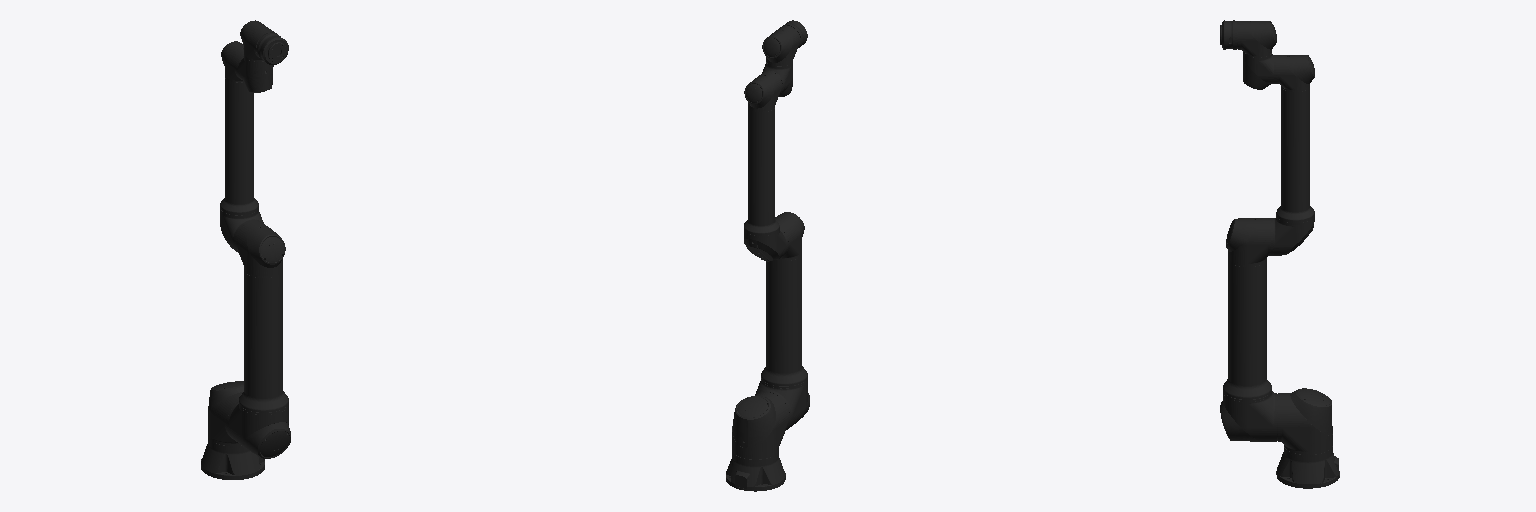
robot.urdf — rb10:
<?xml version="1.0" ?>
<!-- =================================================================================== -->
<!-- |    This document was autogenerated by xacro from rb10_moveit.xacro              | -->
<!-- |    EDITING THIS FILE BY HAND IS NOT RECOMMENDED                                 | -->
<!-- =================================================================================== -->
<!-- Cobot Robot -->
<robot name="rb10">
  <material name="grey">
    <color rgba="0.2 0.2 0.2 1.0"/>
  </material>
  <!--======================= Links =========================-->
  <!-- Base Footprint -->
  <link name="base_footprint">
    <visual>
      <origin rpy="0 0 0" xyz="0 0 0"/>
      <geometry>
        <box size="0.001 0.001 0.001"/>
      </geometry>
      <material name="grey"/>
    </visual>
  </link>
  <!-- 0 -->
  <link name="Axis_0">
    <visual>
      <origin rpy="0 0 0" xyz="0 0 0"/>
      <geometry>
        <mesh filename="package://rb_description/meshes/visual/RB10/RB10-AXIS-0.stl" scale="0.001 0.001 0.001"/>
      </geometry>
      <material name="grey"/>
    </visual>
    <collision>
      <origin rpy="0 0 0" xyz="0 0 0"/>
      <geometry>
        <mesh filename="package://rb_description/meshes/collision/RB10/RB10-AXIS-0.stl" scale="0.001 0.001 0.001"/>
      </geometry>
    </collision>
  </link>
  <!-- Base -->
  <link name="Axis_1">
    <visual>
      <origin rpy="0 0 0" xyz="0 0 0"/>
      <geometry>
        <mesh filename="package://rb_description/meshes/visual/RB10/RB10-AXIS-1.stl" scale="0.001 0.001 0.001"/>
      </geometry>
      <material name="grey"/>
    </visual>
    <collision>
      <origin rpy="0 0 0" xyz="0 0 0"/>
      <geometry>
        <mesh filename="package://rb_description/meshes/collision/RB10/RB10-AXIS-1.stl" scale="0.001 0.001 0.001"/>
      </geometry>
    </collision>
  </link>
  <!-- Shoulder -->
  <link name="Axis_2">
    <visual>
      <origin rpy="0 0 0" xyz="0 0 -0.197"/>
      <geometry>
        <mesh filename="package://rb_description/meshes/visual/RB10/RB10-AXIS-2.stl" scale="0.001 0.001 0.001"/>
      </geometry>
      <material name="grey"/>
    </visual>
    <collision>
      <origin rpy="0 0 0" xyz="0 0 -0.197"/>
      <geometry>
        <mesh filename="package://rb_description/meshes/collision/RB10/RB10-AXIS-2.stl" scale="0.001 0.001 0.001"/>
      </geometry>
    </collision>
  </link>
  <!-- Elbow -->
  <link name="Axis_3">
    <visual>
      <origin rpy="0 0 0" xyz="0 0 -0.8097000000000001 "/>
      <geometry>
        <mesh filename="package://rb_description/meshes/visual/RB10/RB10-AXIS-3.stl" scale="0.001 0.001 0.001"/>
      </geometry>
      <material name="grey"/>
    </visual>
    <collision>
      <origin rpy="0 0 0" xyz="0 0 -0.8097000000000001"/>
      <geometry>
        <mesh filename="package://rb_description/meshes/collision/RB10/RB10-AXIS-3.stl" scale="0.001 0.001 0.001"/>
      </geometry>
    </collision>
  </link>
  <!-- Wrist1 -->
  <link name="Axis_4">
    <visual>
      <origin rpy="0 0 0" xyz="0 0 -1.3798500000000002"/>
      <geometry>
        <mesh filename="package://rb_description/meshes/visual/RB10/RB10-AXIS-4.stl" scale="0.001 0.001 0.001"/>
      </geometry>
      <material name="grey"/>
    </visual>
    <collision>
      <origin rpy="0 0 0" xyz="0 0 -1.3798500000000002"/>
      <geometry>
        <mesh filename="package://rb_description/meshes/collision/RB10/RB10-AXIS-4.stl" scale="0.001 0.001 0.001"/>
      </geometry>
    </collision>
  </link>
  <!-- Wrist2 -->
  <link name="Axis_5">
    <visual>
      <origin rpy="0 0 0" xyz="0 0.15625  -1.3798500000000002"/>
      <geometry>
        <mesh filename="package://rb_description/meshes/visual/RB10/RB10-AXIS-5.stl" scale="0.001 0.001 0.001"/>
      </geometry>
      <material name="grey"/>
    </visual>
    <collision>
      <origin rpy="0 0 0" xyz="0 0.15625  -1.3798500000000002"/>
      <geometry>
        <mesh filename="package://rb_description/meshes/collision/RB10/RB10-AXIS-5.stl" scale="0.001 0.001 0.001"/>
      </geometry>
    </collision>
  </link>
  <!-- Wrist3 -->
  <link name="Axis_6">
    <visual>
      <origin rpy="0 0 0" xyz="0 0.15625 -1.4970000000000003"/>
      <geometry>
        <mesh filename="package://rb_description/meshes/visual/RB10/RB10-AXIS-6.stl" scale="0.001 0.001 0.001"/>
      </geometry>
      <material name="grey"/>
    </visual>
    <collision>
      <origin rpy="0 0 0" xyz="0 0.15625 -1.4970000000000003"/>
      <geometry>
        <mesh filename="package://rb_description/meshes/collision/RB10/RB10-AXIS-6.stl" scale="0.001 0.001 0.001"/>
      </geometry>
    </collision>
  </link>
  <!-- TCP -->
  <link name="Tool_Center_Point">
    <visual>
      <origin rpy="0 0 0" xyz="0.11715 0 -1.4970000000000003"/>
      <geometry>
        <box size="0.001 0.001 0.001"/>
      </geometry>
      <material name="grey"/>
    </visual>
  </link>
  <!-- Joint -->
  <joint name="ground" type="fixed">
    <parent link="base_footprint"/>
    <child link="Axis_0"/>
    <origin rpy="0 0 0" xyz="0 0 0"/>
    <axis xyz="0 0 1"/>
  </joint>
  <joint name="base" type="continuous">
    <parent link="Axis_0"/>
    <child link="Axis_1"/>
    <origin rpy="0 0 0" xyz="0 0 0"/>
    <axis xyz="0 0 1"/>
  </joint>
  <joint name="shoulder" type="continuous">
    <parent link="Axis_1"/>
    <child link="Axis_2"/>
    <origin rpy="0 0 0" xyz="0 0 0.197 "/>
    <axis xyz="0 1 0"/>
  </joint>
  <joint name="elbow" type="continuous">
    <parent link="Axis_2"/>
    <child link="Axis_3"/>
    <origin rpy="0 0 0" xyz="0 0 0.6127"/>
    <axis xyz="0 1 0"/>
  </joint>
  <joint name="wrist1" type="continuous">
    <parent link="Axis_3"/>
    <child link="Axis_4"/>
    <origin rpy="0 0 0" xyz="0 0 0.57015"/>
    <axis xyz="0 1 0"/>
  </joint>
  <joint name="wrist2" type="continuous">
    <parent link="Axis_4"/>
    <child link="Axis_5"/>
    <origin rpy="0 0 0" xyz="0 -0.15625 0 "/>
    <axis xyz="0 0 1"/>
  </joint>
  <joint name="wrist3" type="continuous">
    <parent link="Axis_5"/>
    <child link="Axis_6"/>
    <origin rpy="0 0 0" xyz="0 0 0.11715"/>
    <!-- ${base_offset - elbow_offset + wrist2wrist} ${wrist2wrist} -->
    <axis xyz="0 1 0"/>
  </joint>
  <joint name="Tool_Flange" type="fixed">
    <parent link="Axis_6"/>
    <child link="Tool_Center_Point"/>
    <origin rpy="0 0 0" xyz="0 -0.1153 0"/>
    <axis xyz="0 0 0"/>
  </joint>
</robot>

--- Render facts (derived) ---
3 views of the same robot in one strip: view 1: azimuth 30°, elevation 25°; view 2: azimuth 150°, elevation 25°; view 3: azimuth 270°, elevation 25° (orthographic).
Robot: rb10 — 9 links, 8 joints (6 continuous, 2 fixed); root link base_footprint; default pose: every joint at zero.
Visible links, largest first — view 1: Axis_2, Axis_3, Axis_0, Axis_1, Axis_4, Axis_6, Axis_5; view 2: Axis_2, Axis_3, Axis_1, Axis_0, Axis_5; view 3: Axis_2, Axis_3, Axis_1, Axis_0, Axis_5, Axis_4.
Boxes of the visible links, bbox=[...] form: Axis_2: bbox=[227, 221, 290, 458]; Axis_3: bbox=[220, 41, 263, 251]; Axis_0: bbox=[201, 438, 264, 479]; Axis_1: bbox=[208, 381, 243, 445]; Axis_4: bbox=[237, 55, 273, 92]; Axis_6: bbox=[257, 33, 288, 64]; Axis_5: bbox=[240, 20, 276, 59]; Axis_2: bbox=[755, 212, 809, 429]; Axis_3: bbox=[744, 71, 788, 261]; Axis_1: bbox=[732, 392, 789, 459]; Axis_0: bbox=[726, 451, 785, 491]; Axis_5: bbox=[762, 24, 801, 64]; Axis_2: bbox=[1220, 218, 1276, 441]; Axis_3: bbox=[1271, 55, 1314, 255]; Axis_1: bbox=[1277, 388, 1332, 454]; Axis_0: bbox=[1276, 446, 1339, 488]; Axis_5: bbox=[1235, 21, 1276, 55]; Axis_4: bbox=[1243, 52, 1275, 89].
Bounding box of the posed robot: 0.2156 × 0.3703 × 1.54 m (x, y, z).
Meshes: 7 distinct files referenced, 7 mesh visuals loaded (7 binary STL).